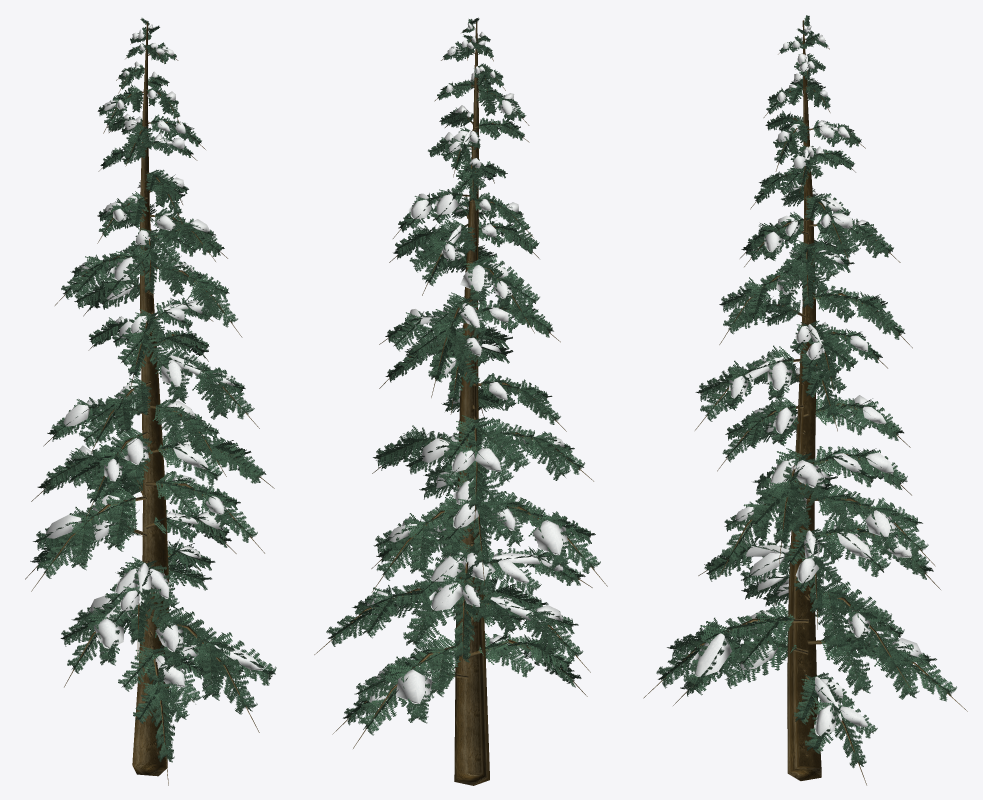
The picture shows the model from 3 angles, left to right: view 1: azimuth 30°, elevation 25°; view 2: azimuth 150°, elevation 25°; view 3: azimuth 270°, elevation 25°; orthographic projection.
Parts seen in each view (by area): view 1: Mesh_NeedleSprays, Mesh_SupportedSnowLoads, Mesh_BarkStructure; view 2: Mesh_NeedleSprays, Mesh_SupportedSnowLoads, Mesh_BarkStructure; view 3: Mesh_NeedleSprays, Mesh_SupportedSnowLoads, Mesh_BarkStructure.
Boxes of the visible parts, left/top/right/bottom form: Mesh_NeedleSprays: left=30, top=18, right=276, bottom=762; Mesh_SupportedSnowLoads: left=45, top=24, right=262, bottom=687; Mesh_BarkStructure: left=25, top=22, right=274, bottom=785; Mesh_NeedleSprays: left=326, top=17, right=600, bottom=735; Mesh_SupportedSnowLoads: left=367, top=23, right=568, bottom=703; Mesh_BarkStructure: left=314, top=21, right=607, bottom=785; Mesh_NeedleSprays: left=656, top=15, right=956, bottom=768; Mesh_SupportedSnowLoads: left=690, top=25, right=924, bottom=736; Mesh_BarkStructure: left=643, top=20, right=967, bottom=785.
Bounding box in the file's own units: 4.06 × 12.2 × 4.75.
Materials: 3 (3 with a texture image).
